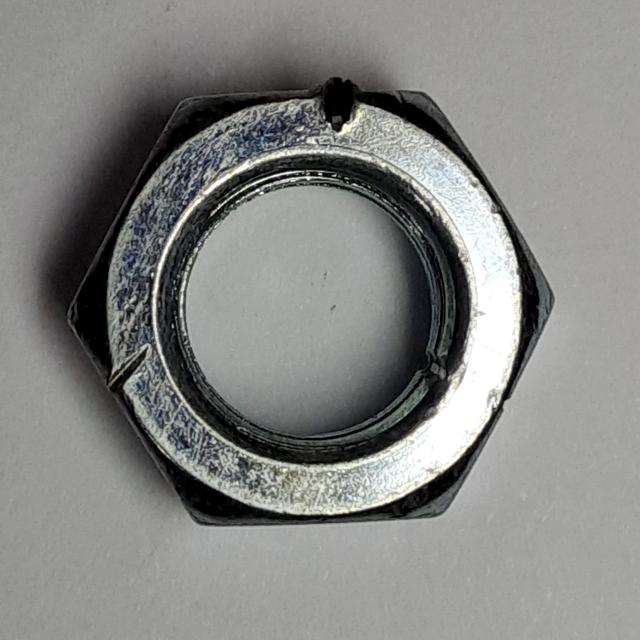Scratches: (55, 62, 567, 544)
